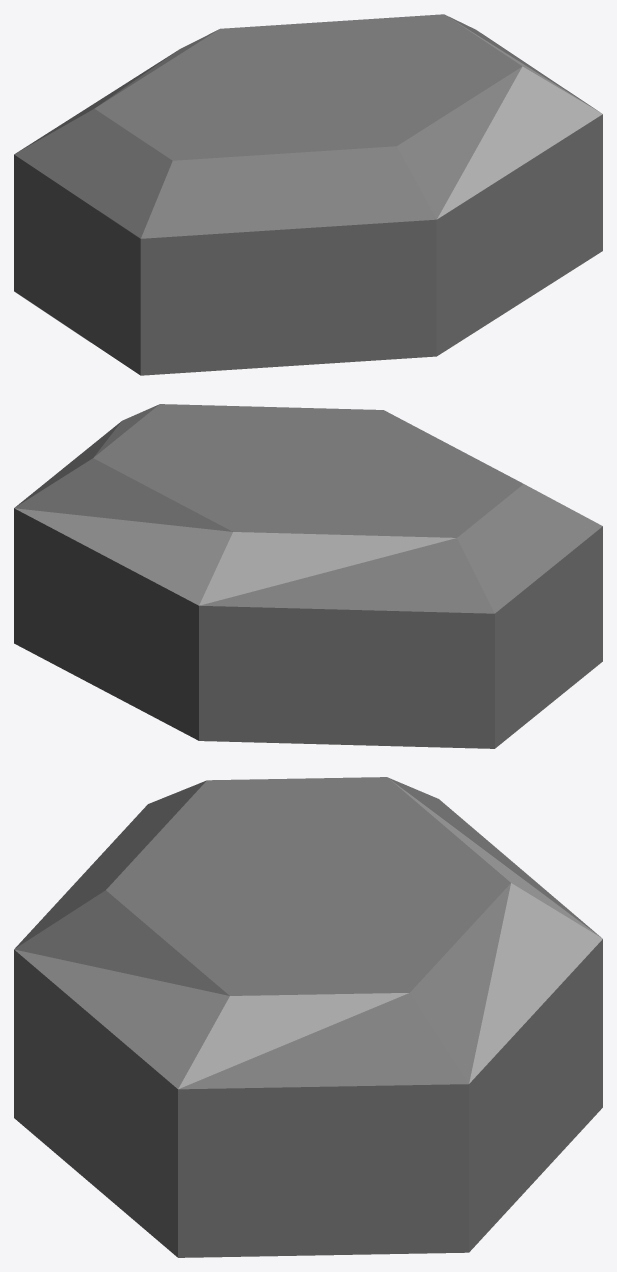
File: rock_6.fbx
3 views of the same model, one above another, from view 1: azimuth 30°, elevation 25°; view 2: azimuth 150°, elevation 25°; view 3: azimuth 270°, elevation 25° (orthographic). The views are drawn at different scales.
Parts seen in each view (by area): view 1: rock_6; view 2: rock_6; view 3: rock_6.
Part boxes in pixels (box(x1,y1,x2,y2)): rock_6: box(14, 14, 602, 375); rock_6: box(14, 404, 602, 748); rock_6: box(14, 777, 602, 1257).
Bounding box in the file's own units: 66.9 × 24.3 × 57.35.
